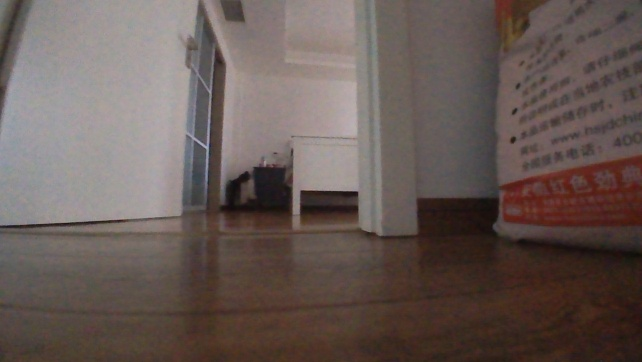door: (0, 0, 203, 229)
